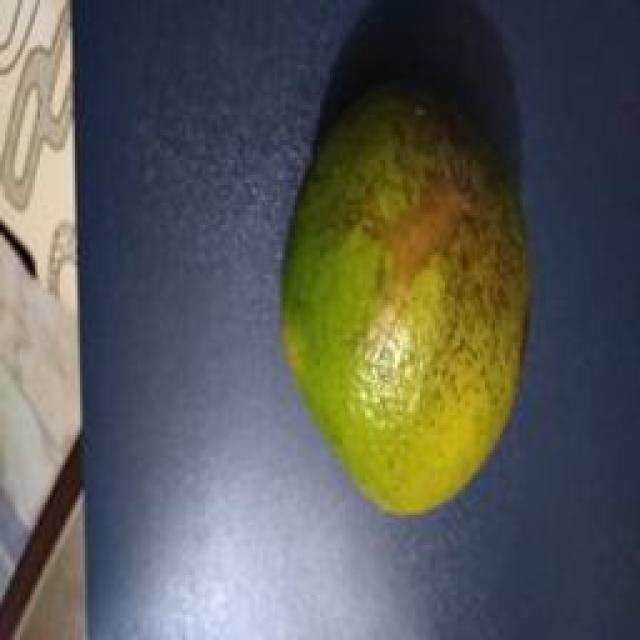Rotten_Orange: (260, 75, 573, 519)
